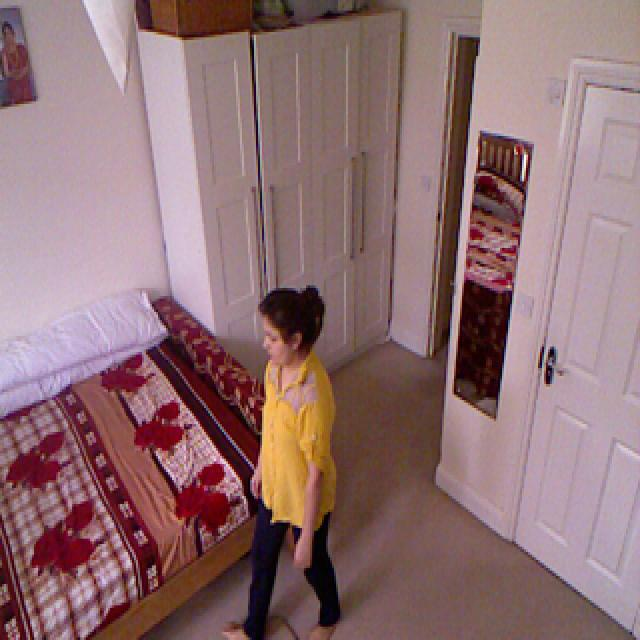standing: (226, 286, 340, 640)
